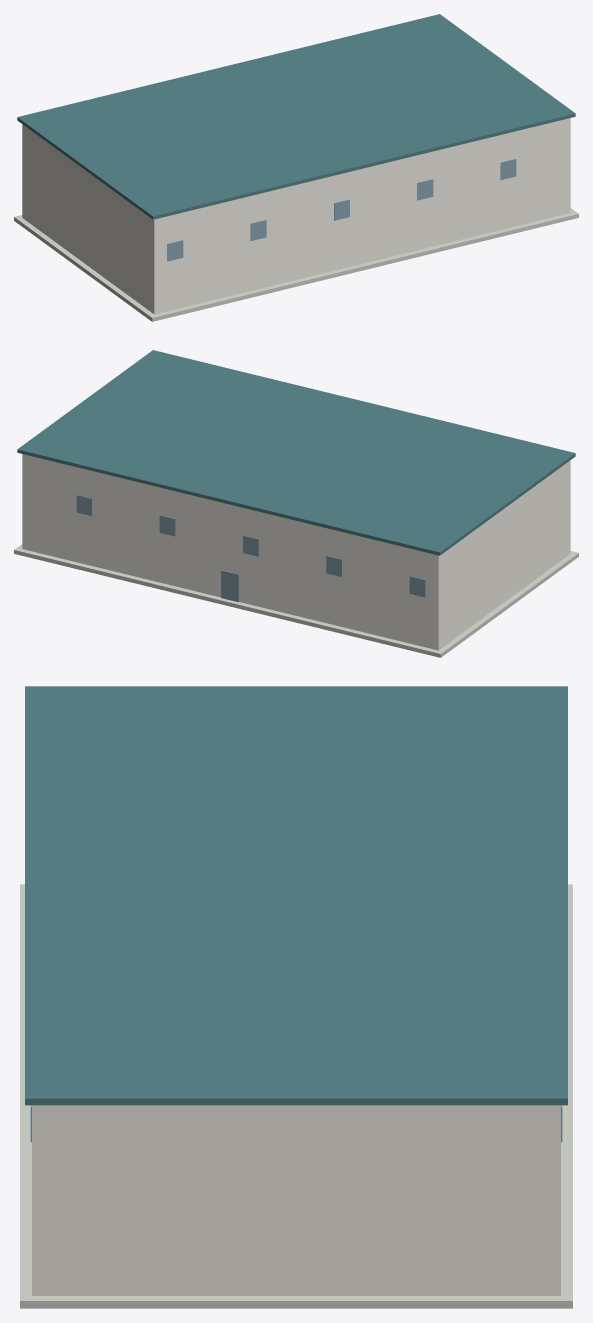
The model's file is airport_terminal.glb.
The picture shows the model from 3 angles, top to bottom: view 1: azimuth 30°, elevation 25°; view 2: azimuth 150°, elevation 25°; view 3: azimuth 270°, elevation 25°; orthographic projection. The views are drawn at different scales.
Visible parts, largest first — view 1: airport_terminal__roof, airport_terminal__walls, airport_terminal__plinth; view 2: airport_terminal__roof, airport_terminal__walls, airport_terminal__plinth, airport_terminal__front_door; view 3: airport_terminal__roof, airport_terminal__walls, airport_terminal__plinth.
Boxes of the visible parts, left/top/right/bottom form: airport_terminal__roof: left=17, top=14, right=575, bottom=219; airport_terminal__walls: left=22, top=118, right=570, bottom=314; airport_terminal__plinth: left=14, top=208, right=578, bottom=321; airport_terminal__roof: left=17, top=350, right=575, bottom=555; airport_terminal__walls: left=22, top=454, right=570, bottom=650; airport_terminal__plinth: left=14, top=544, right=578, bottom=657; airport_terminal__front_door: left=221, top=570, right=239, bottom=602; airport_terminal__roof: left=25, top=686, right=567, bottom=1105; airport_terminal__walls: left=32, top=1105, right=560, bottom=1295; airport_terminal__plinth: left=20, top=884, right=572, bottom=1308.
Size of the model in its own units: 41 by 9.55 by 23.
